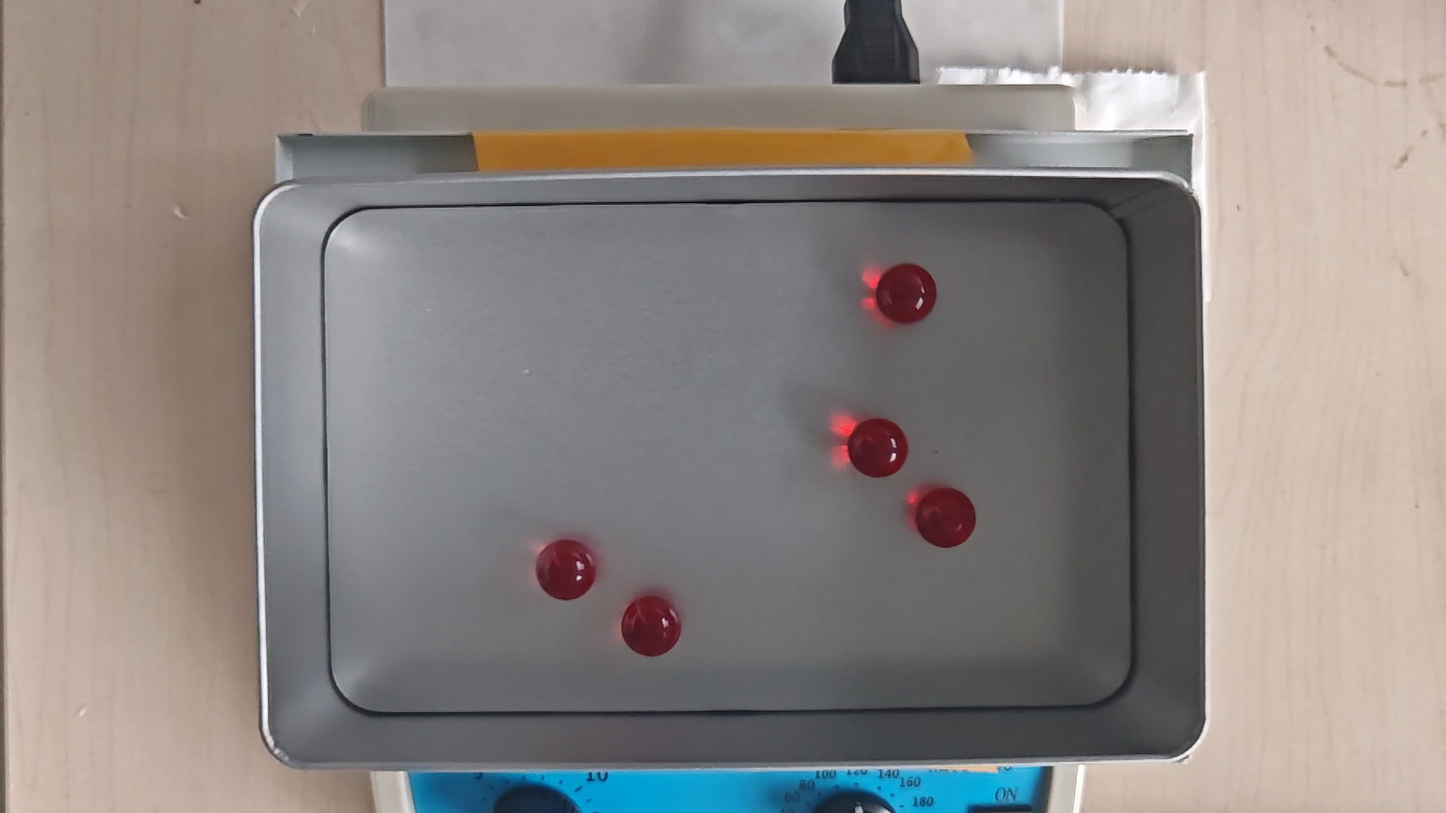ball: (536, 539, 596, 601), (916, 487, 976, 549), (623, 595, 682, 657), (878, 264, 936, 324), (851, 419, 907, 479)
container: (326, 201, 1132, 713)
